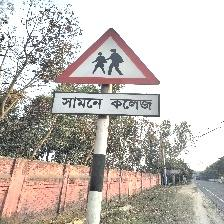College-in-front: (38, 19, 191, 148)
